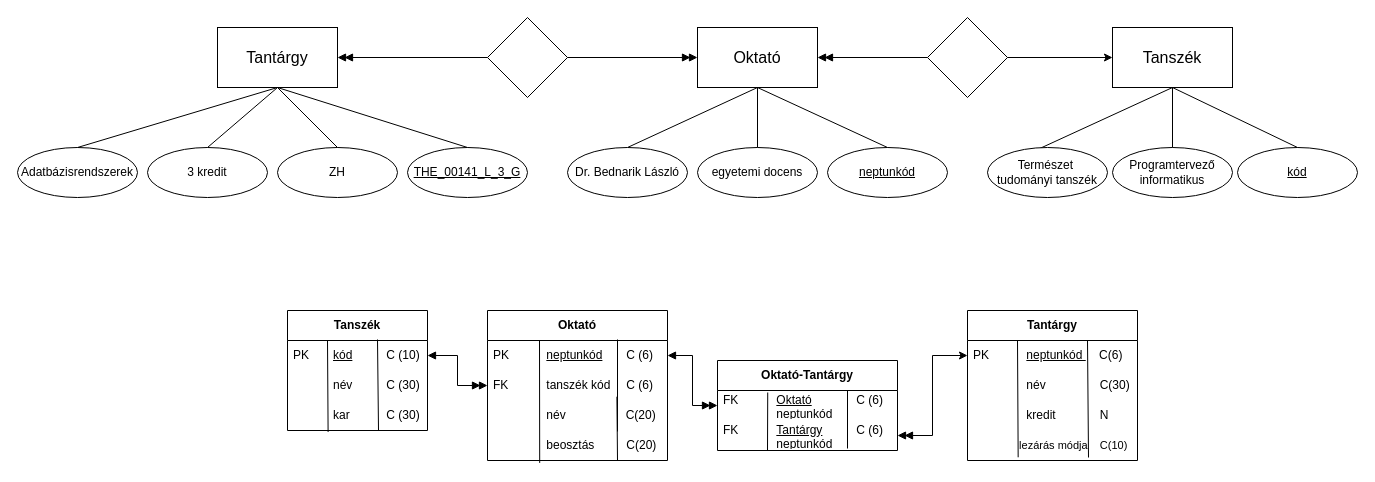
Some shapes in this 1375 by 482 pixel diagram are drawn without their labels. The centre of each missing label's shape, as x and y in pixels:
O-T: the point at 527,57
T-O: the point at 967,57
